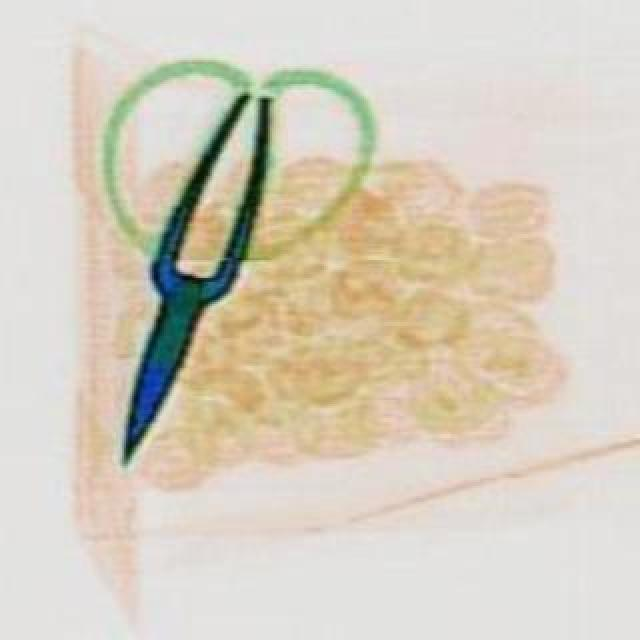pliers: (6, 24, 402, 508)
